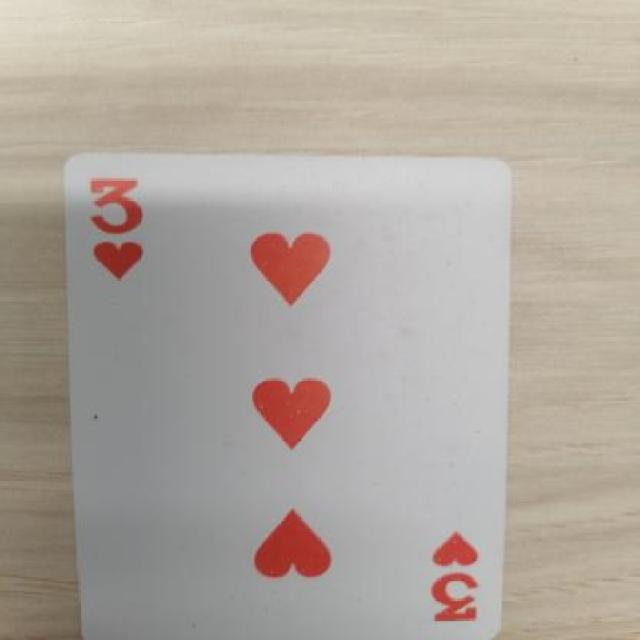3H: (66, 158, 185, 292), (422, 510, 496, 632)
